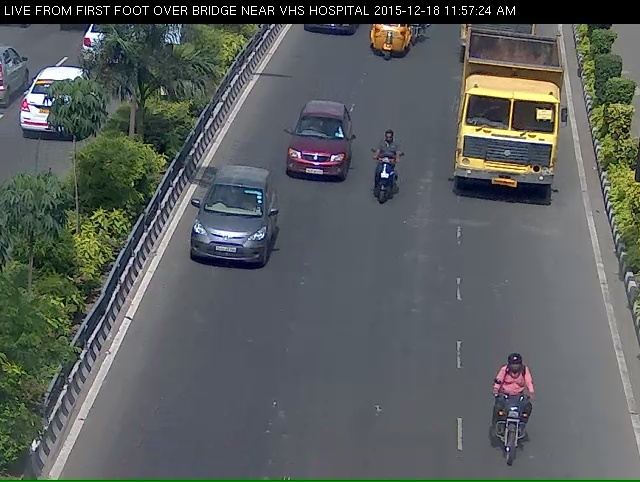Bus: (454, 30, 552, 216)
Car: (176, 187, 271, 288), (270, 108, 350, 196), (363, 19, 405, 61)
Person: (491, 385, 541, 477), (372, 150, 407, 229)
